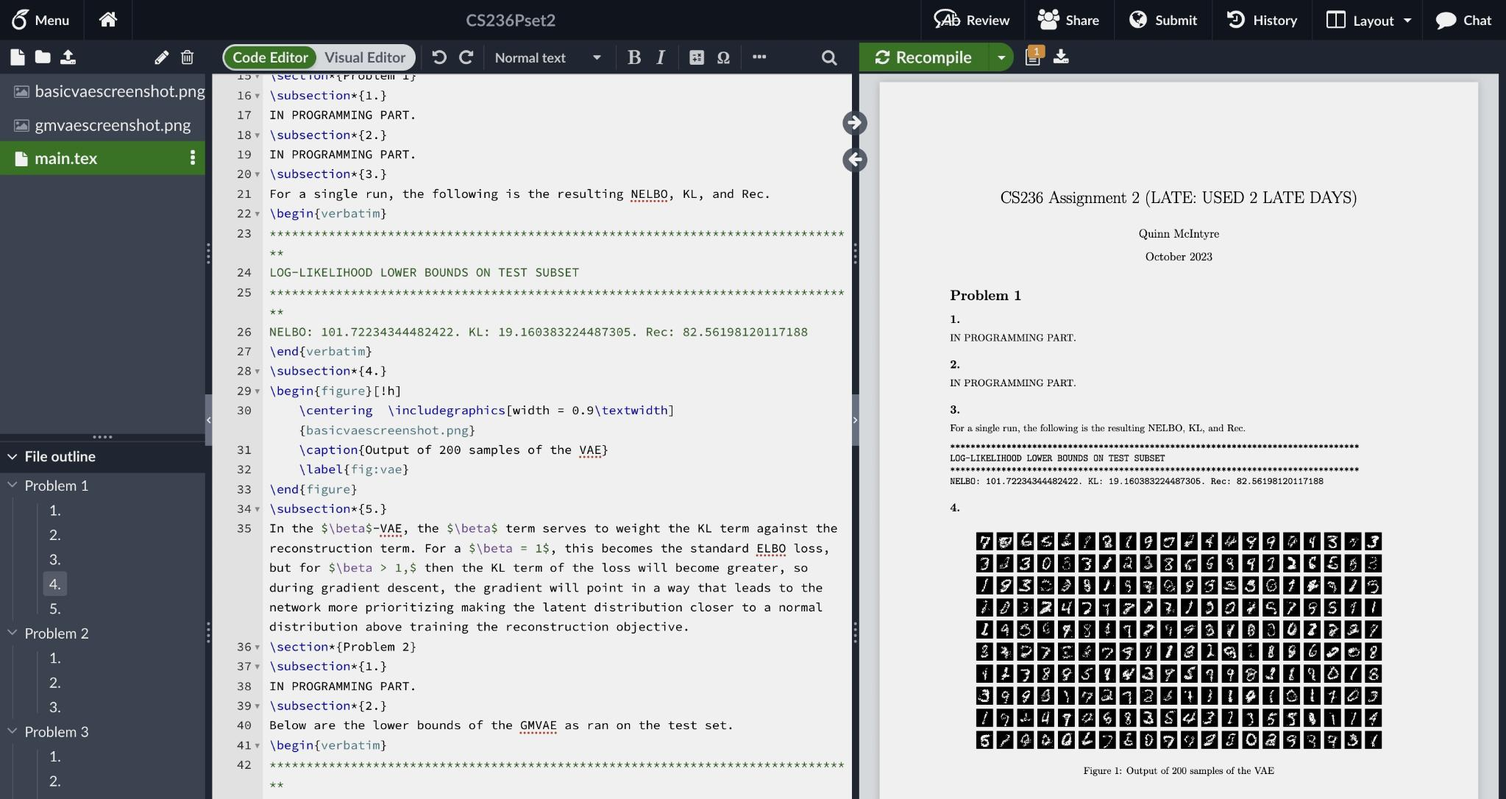webelement: (0, 40, 1505, 798), (879, 81, 1478, 799), (0, 73, 204, 433), (0, 472, 198, 799), (0, 0, 1505, 40), (0, 472, 198, 619), (859, 40, 1498, 73), (269, 283, 845, 319), (269, 756, 845, 792), (269, 224, 845, 259), (0, 620, 198, 718), (0, 718, 198, 799), (269, 322, 808, 338), (0, 73, 204, 107), (0, 107, 204, 141), (0, 141, 204, 174), (0, 440, 204, 470), (1000, 189, 1357, 205), (269, 263, 579, 280), (24, 496, 198, 521), (24, 521, 198, 546), (24, 693, 198, 718), (24, 546, 198, 570), (24, 571, 198, 595), (24, 595, 198, 619), (24, 644, 198, 668), (24, 669, 198, 693), (24, 743, 198, 767), (24, 768, 198, 792), (1311, 0, 1420, 38), (950, 440, 1360, 450), (459, 0, 562, 38), (920, 0, 1023, 38), (1212, 0, 1312, 38), (858, 42, 988, 71), (950, 464, 1360, 473), (1113, 0, 1210, 38), (1024, 0, 1113, 38), (950, 475, 1324, 484), (34, 81, 204, 100), (0, 0, 84, 38), (1421, 0, 1505, 38), (34, 113, 189, 133), (488, 45, 611, 68), (950, 423, 1246, 432), (306, 421, 468, 437), (316, 46, 413, 68), (224, 46, 316, 68), (950, 453, 1165, 462), (18, 718, 94, 743), (387, 401, 505, 417), (84, 0, 132, 38), (18, 472, 94, 496), (18, 620, 94, 644), (1083, 766, 1274, 775), (896, 47, 972, 67), (269, 86, 349, 102), (269, 125, 349, 141), (269, 166, 349, 182), (269, 362, 349, 378), (269, 500, 349, 516), (269, 658, 349, 674), (269, 697, 349, 713), (34, 147, 97, 167), (269, 26, 342, 43), (269, 795, 579, 799), (24, 792, 198, 799), (297, 401, 371, 417), (593, 401, 667, 417), (950, 333, 1076, 342), (950, 378, 1076, 387), (950, 289, 1022, 303), (306, 341, 365, 358), (269, 67, 328, 83), (320, 205, 379, 221), (298, 440, 357, 456), (269, 637, 328, 653), (320, 736, 379, 752), (494, 50, 565, 63), (1139, 227, 1220, 238), (1254, 9, 1297, 29), (967, 9, 1009, 29), (1155, 9, 1197, 29), (1353, 9, 1394, 29), (350, 461, 401, 477), (306, 480, 349, 497), (1145, 251, 1211, 262), (180, 144, 204, 174), (320, 382, 364, 398), (34, 9, 69, 29), (989, 42, 1013, 71), (269, 205, 312, 221), (269, 382, 312, 398), (298, 461, 341, 477), (269, 736, 312, 752), (1066, 9, 1100, 29), (327, 519, 364, 536), (453, 519, 490, 536), (4, 45, 29, 69), (30, 45, 55, 69), (54, 45, 79, 69), (149, 45, 174, 69), (174, 45, 199, 69), (0, 718, 24, 743), (816, 45, 841, 69), (1020, 45, 1045, 69), (1048, 45, 1073, 69), (630, 185, 667, 201), (475, 539, 512, 555), (335, 559, 372, 575), (519, 716, 556, 732), (0, 472, 24, 496), (0, 620, 24, 644), (427, 45, 451, 69), (454, 45, 478, 69), (622, 45, 646, 69), (649, 45, 673, 69), (685, 45, 709, 69), (711, 45, 735, 69), (747, 45, 771, 69), (372, 559, 408, 575), (842, 110, 866, 134), (842, 147, 866, 171), (42, 496, 65, 521), (42, 521, 65, 546), (42, 693, 65, 718), (42, 546, 65, 570), (42, 571, 65, 595), (42, 595, 65, 619), (42, 644, 65, 668), (42, 669, 65, 693), (42, 743, 65, 767), (42, 768, 65, 792), (1464, 9, 1491, 29), (269, 341, 298, 358), (269, 480, 298, 497), (756, 539, 786, 555), (512, 539, 541, 555), (380, 519, 402, 536), (579, 440, 601, 456), (852, 394, 858, 445), (1028, 44, 1045, 57), (251, 636, 262, 656), (251, 65, 262, 84), (251, 85, 262, 104), (251, 124, 262, 143), (251, 163, 262, 182), (251, 203, 262, 222), (251, 361, 262, 380), (251, 380, 262, 399), (251, 499, 262, 518), (251, 656, 262, 675), (251, 695, 262, 714), (251, 734, 262, 753), (316, 49, 329, 63), (224, 52, 237, 65), (42, 792, 65, 799), (320, 519, 327, 536), (445, 519, 452, 536), (490, 519, 497, 536), (334, 67, 341, 83), (357, 86, 364, 102), (380, 86, 387, 102), (357, 125, 364, 141), (380, 125, 387, 141), (357, 166, 364, 182), (380, 166, 387, 182), (313, 205, 320, 221), (380, 205, 387, 221), (357, 362, 364, 378), (380, 362, 387, 378), (313, 382, 320, 398), (372, 382, 379, 398), (394, 382, 401, 398), (505, 401, 512, 417), (667, 401, 674, 417), (468, 421, 475, 437), (357, 440, 364, 456), (601, 440, 608, 456), (343, 461, 350, 477), (401, 461, 408, 477), (357, 500, 364, 516), (380, 500, 387, 516), (468, 539, 475, 555), (334, 637, 341, 653), (357, 658, 364, 674), (380, 658, 387, 674), (357, 697, 364, 713), (380, 697, 387, 713), (313, 736, 320, 752), (380, 736, 387, 752), (950, 313, 960, 324), (950, 358, 960, 369), (950, 404, 960, 415), (950, 501, 960, 512), (298, 341, 304, 358), (365, 341, 371, 358), (298, 480, 304, 497), (350, 480, 356, 497), (365, 519, 371, 536), (409, 67, 415, 83), (365, 382, 371, 398), (298, 421, 304, 437), (542, 539, 548, 555), (328, 559, 334, 575), (409, 559, 415, 575), (409, 637, 415, 653)
